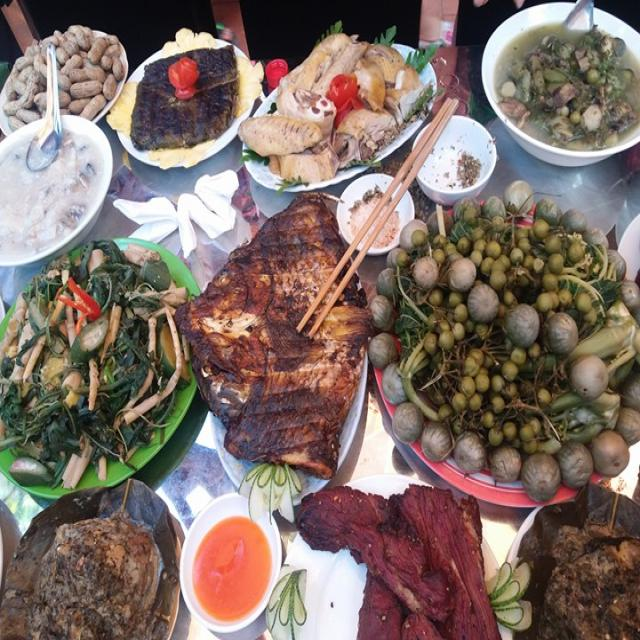ga luoc: (264, 40, 420, 162)
